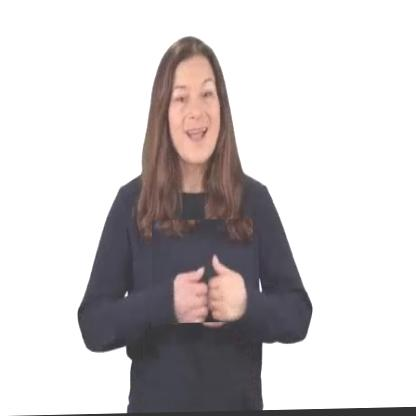HowAreYou: (152, 220, 253, 324)
